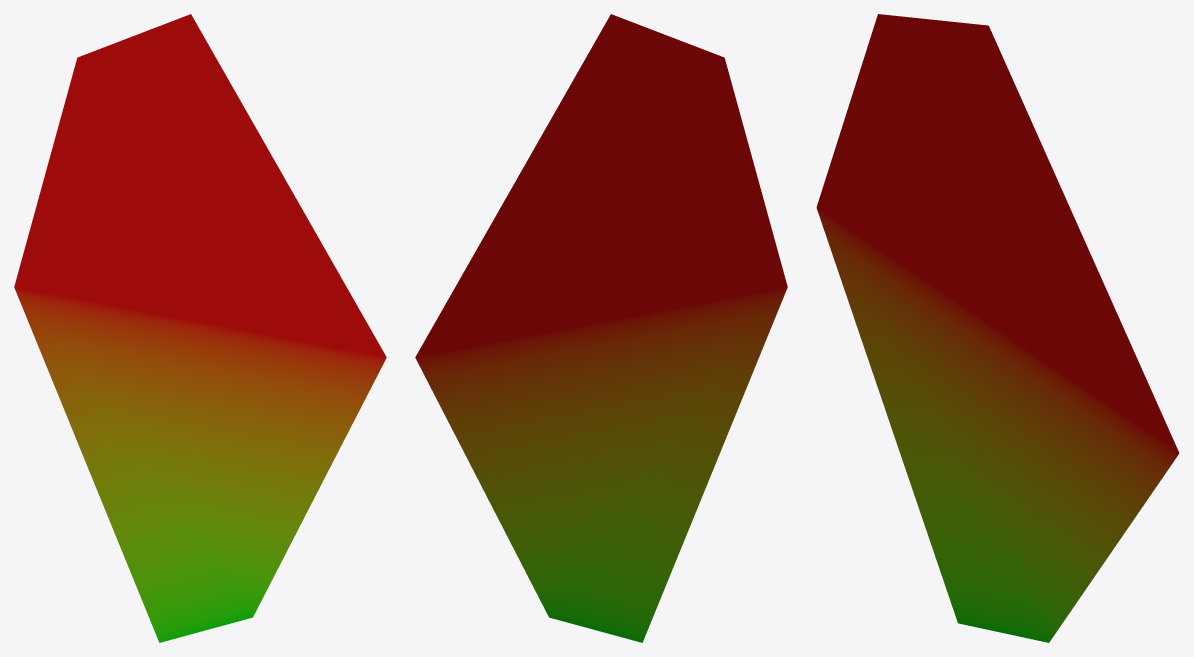
Rendered from Raspberry_LOD4_Var9_wf0oefeja.fbx.
3 renders of one model, left to right at view 1: azimuth 30°, elevation 25°; view 2: azimuth 150°, elevation 25°; view 3: azimuth 330°, elevation 25°, orthographic. The views are drawn at different scales.
Parts seen in each view (by area): view 1: _3wik_Var9_LOD4; view 2: _3wik_Var9_LOD4; view 3: _3wik_Var9_LOD4.
Part boxes in pixels (left/top/right/bottom): _3wik_Var9_LOD4: left=14, top=14, right=386, bottom=642; _3wik_Var9_LOD4: left=415, top=14, right=787, bottom=642; _3wik_Var9_LOD4: left=816, top=14, right=1179, bottom=642.
Bounding box in the file's own units: 33.77 × 53.8 × 6.41e-06.
